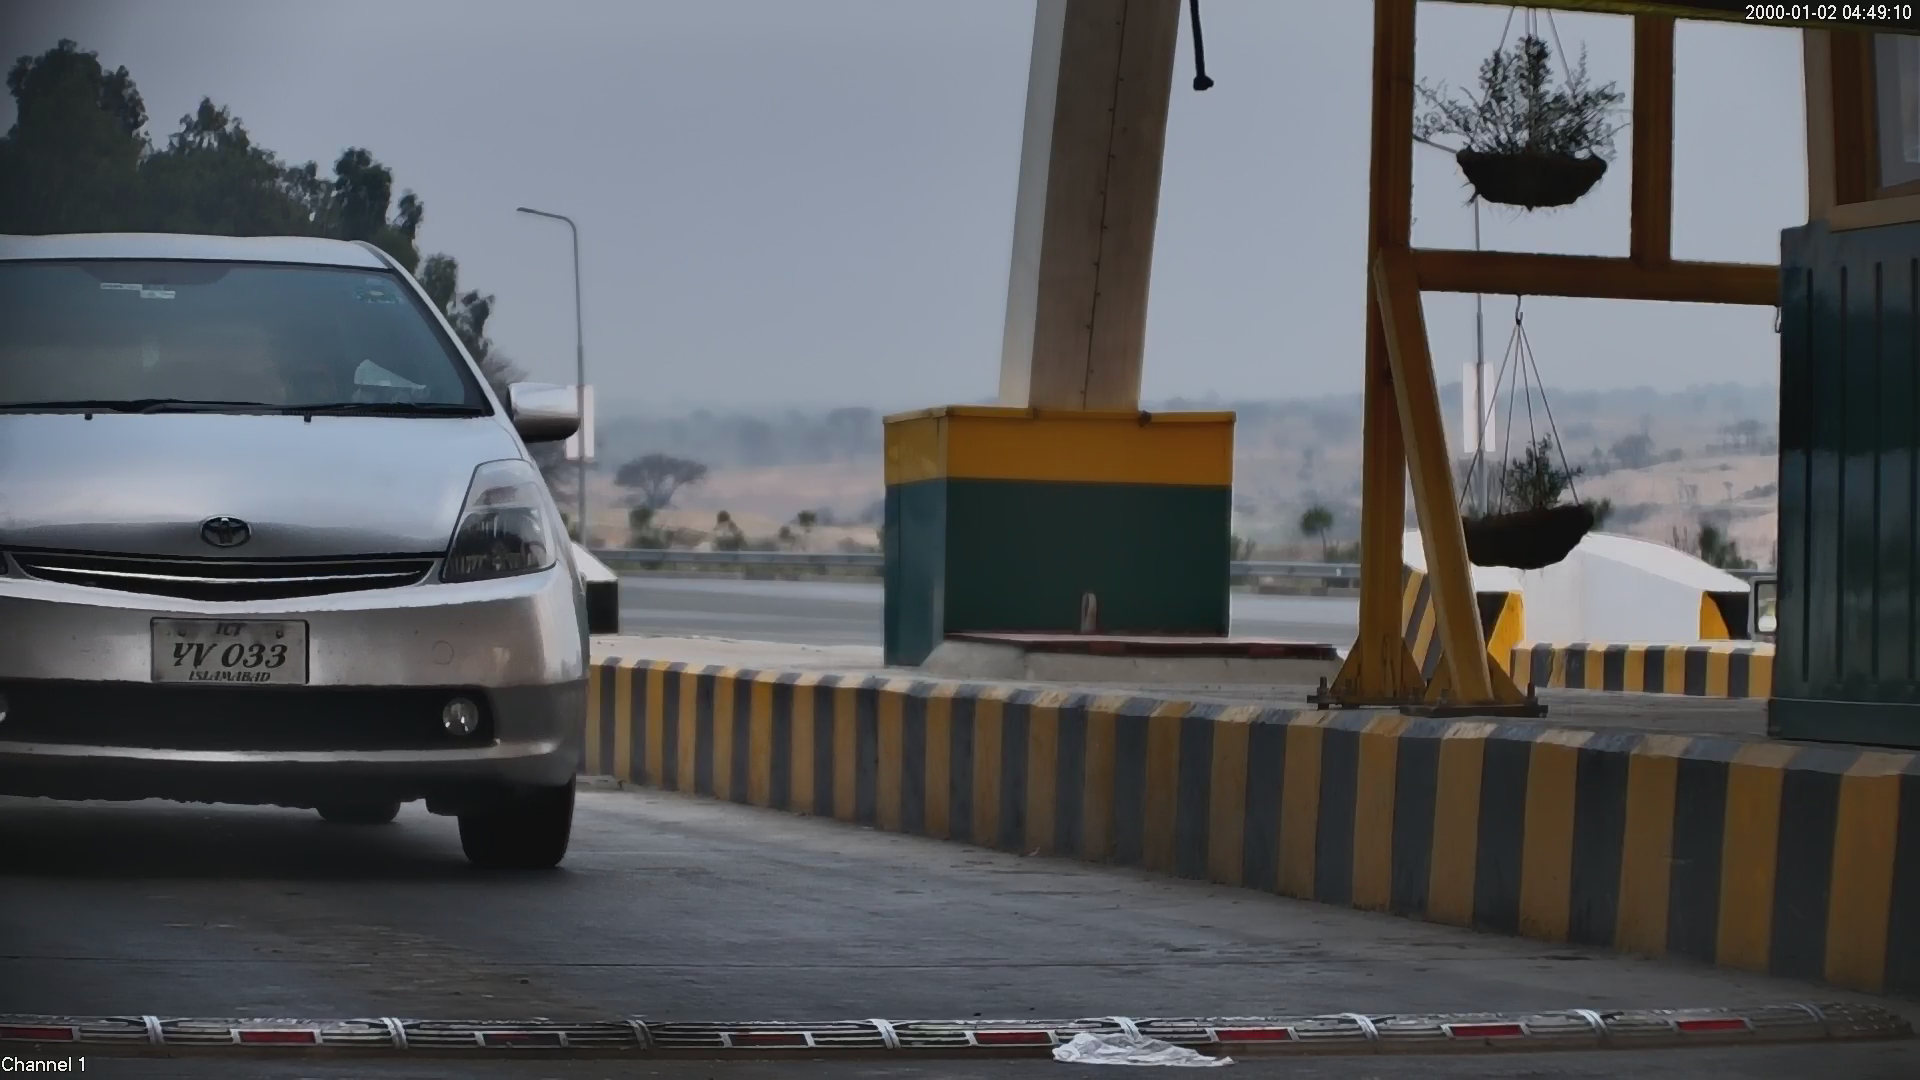Number_Plate: (142, 605, 319, 705)
